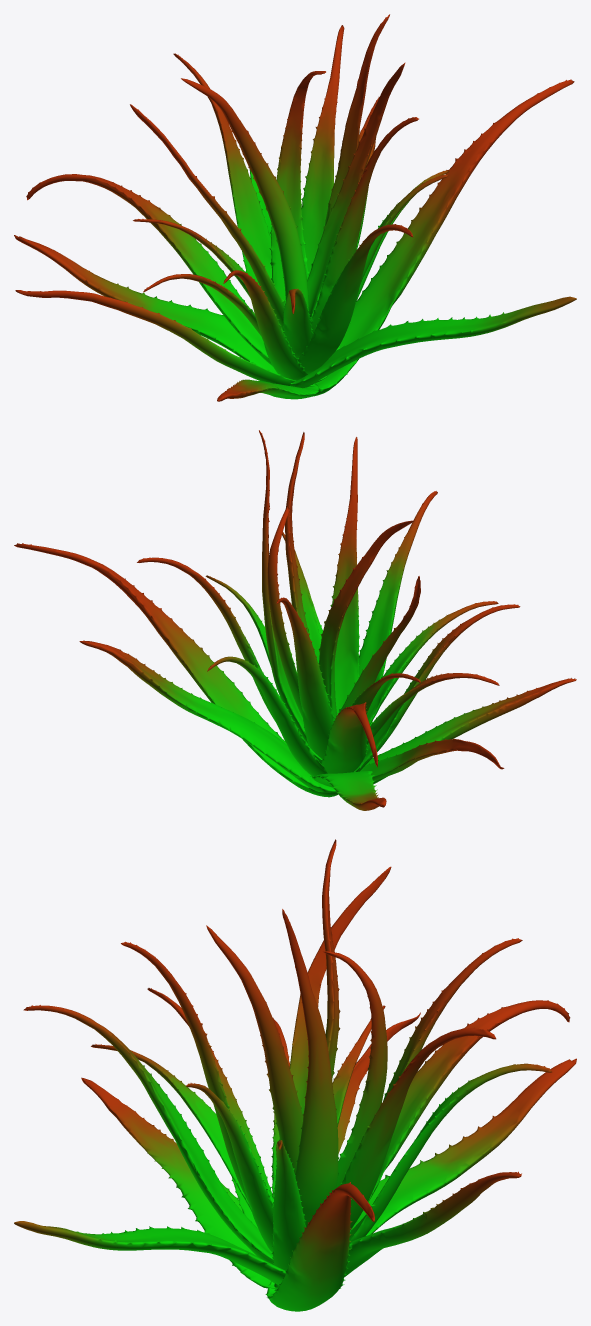
File: Aloe Vera_LOD2_Var11_ve4tbbrha.fbx
3 views of the same model, one above another, from view 1: azimuth 30°, elevation 25°; view 2: azimuth 150°, elevation 25°; view 3: azimuth 270°, elevation 25° (orthographic). The views are drawn at different scales.
Visible parts, largest first — view 1: _wih1_Var11_LOD2; view 2: _wih1_Var11_LOD2; view 3: _wih1_Var11_LOD2.
Boxes of the visible parts, x1=… form: _wih1_Var11_LOD2: x1=14, y1=14, x2=576, y2=401; _wih1_Var11_LOD2: x1=14, y1=430, x2=576, y2=810; _wih1_Var11_LOD2: x1=14, y1=839, x2=576, y2=1311.
Bounding box in the file's own units: 108 × 69.95 × 80.52.
